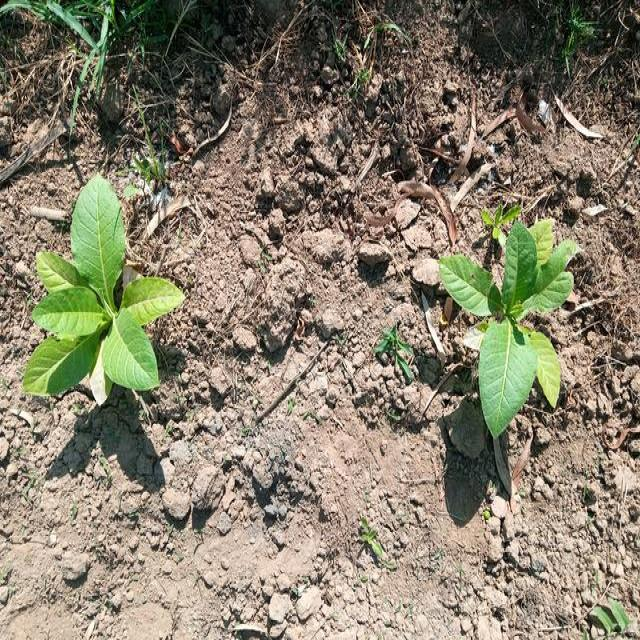crop: (29, 173, 174, 420), (442, 195, 574, 428)
